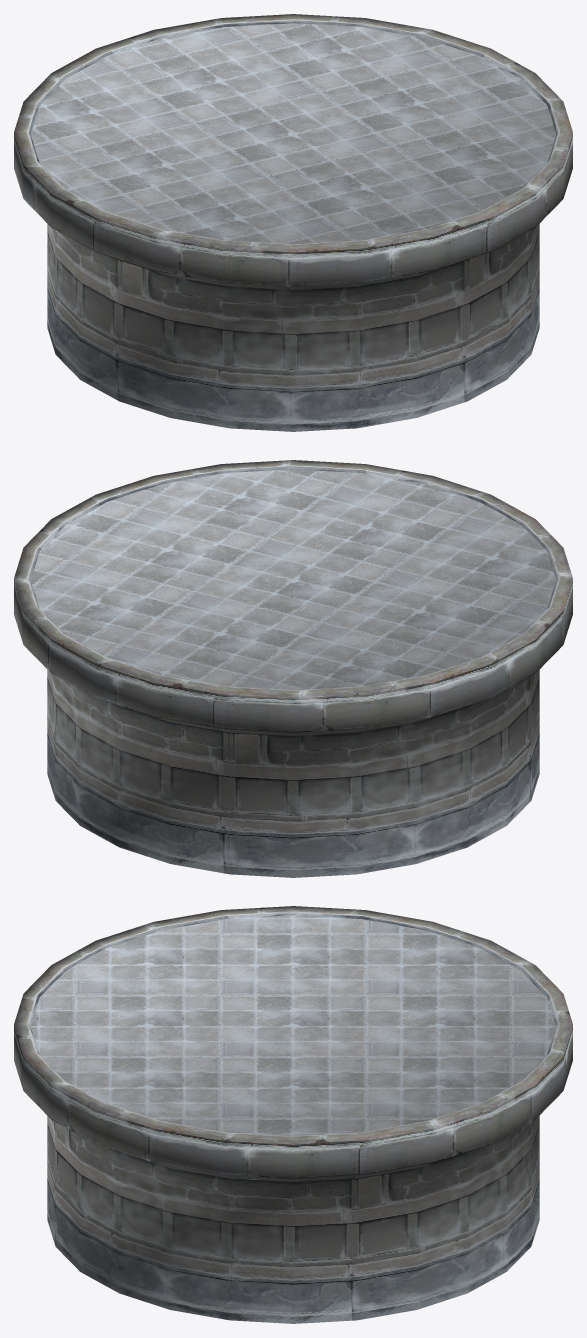
File: jz_jitai_01.FBX
The picture shows the model from 3 angles, top to bottom: view 1: azimuth 30°, elevation 25°; view 2: azimuth 150°, elevation 25°; view 3: azimuth 270°, elevation 25°; orthographic projection.
Visible parts, largest first — view 1: jz_jitai_01; view 2: jz_jitai_01; view 3: jz_jitai_01.
Part boxes in pixels (<box>): jz_jitai_01: <box>14,14,572,431</box>; jz_jitai_01: <box>14,460,572,877</box>; jz_jitai_01: <box>14,906,572,1323</box>.
Bounding box in the file's own units: 1366 × 528 × 1366.
